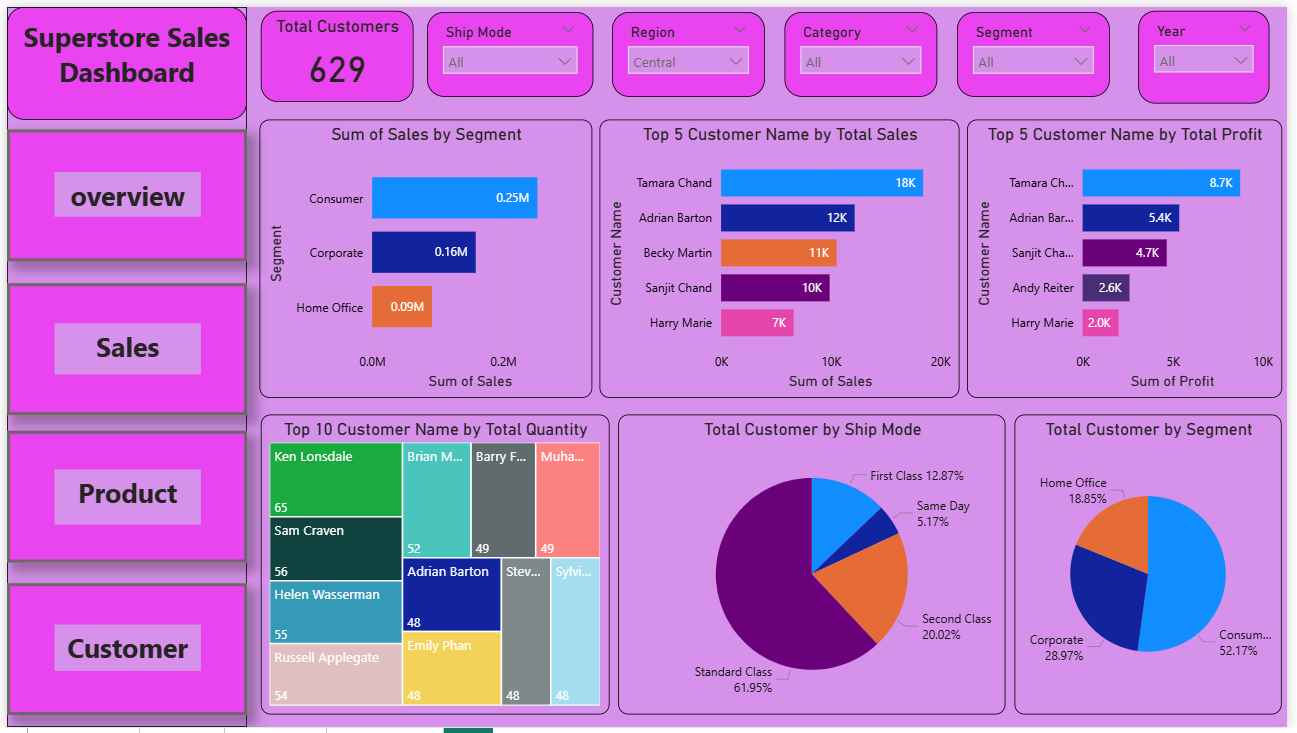

What the dashboard file says about the page in this screenshot:
{"tool":"powerbi","page":{"name":"Customer","canvas":[1280,720],"ordinal":3},"visuals":[{"type":"textbox","box":[0,0,240,720],"z":0},{"type":"card","title":"Total Customers","fields":{"Values":["Orders.Customer ID"]},"box":[253.1,3.8,152.5,91.2],"z":0,"group":"g1"},{"type":"textbox","box":[0,0,240,112.5],"z":1000},{"type":"actionButton","box":[0,576.3,240.1,131.7],"z":2000},{"type":"actionButton","box":[0,424,240.1,131.7],"z":3000},{"type":"slicer","fields":{"Values":["calender.Year"]},"box":[1130.4,4.1,131.2,92.5],"z":4000,"group":"g1"},{"type":"actionButton","box":[0,275.8,240.1,131.7],"z":4000},{"type":"actionButton","box":[0,122.1,240.1,131.7],"z":5000},{"type":"textbox","box":[47.5,165,146.2,45],"z":6000},{"type":"textbox","box":[47.5,316.2,146.2,51.2],"z":7000},{"type":"textbox","box":[47.5,462.5,146.2,55],"z":8000},{"type":"textbox","box":[47.5,617.5,146.2,46.2],"z":9000},{"type":"group","id":"g1","title":"Group 1","box":[253.1,3.8,1008.6,92.8],"z":10000},{"type":"slicer","fields":{"Values":["Orders.Ship Mode"]},"box":[420,5,166.2,85],"z":11000},{"type":"slicer","fields":{"Values":["Orders.Region"]},"box":[605,5,152.5,85],"z":12000},{"type":"slicer","fields":{"Values":["Orders.Category"]},"box":[777.5,5,152.5,85],"z":13000},{"type":"slicer","fields":{"Values":["Orders.Segment"]},"box":[950,5,152.5,85],"z":14000},{"type":"barChart","title":"Sum of Sales by Segment","fields":{"Category":["Orders.Segment"],"Y":["Orders.Sales"],"Series":["Orders.Segment"]},"box":[252.5,112.5,332.5,278.8],"z":15000},{"type":"barChart","title":"Top 5 Customer Name by Total Sales","fields":{"Category":["Orders.Customer Name"],"Y":["Orders.Sales"],"Series":["Orders.Customer Name"]},"box":[592.5,112.5,360,278.8],"z":16000},{"type":"barChart","title":"Top 5 Customer Name by Total Profit","fields":{"Category":["Orders.Customer Name"],"Y":["Orders.Profit"],"Series":["Orders.Customer Name"]},"box":[960,112.5,315,278.8],"z":17000},{"type":"treemap","title":"Top 10 Customer Name by Total Quantity","fields":{"Group":["Orders.Customer Name"],"Values":["Orders.Quantity"]},"box":[253.8,407.5,348.8,300],"z":18000},{"type":"pieChart","title":"Total Customer by Ship Mode","fields":{"Y":["Orders.Customer Name"],"Series":["Orders.Ship Mode"]},"box":[611.2,407.5,387.5,300],"z":19000},{"type":"pieChart","title":"Total Customer by Segment","fields":{"Series":["Orders.Segment"],"Y":["Orders.Customer Name"]},"box":[1007.5,407.5,267.5,300],"z":20000}]}

Visuals, with their boxes in screenshot pixels (x1, y1, x2, y2), scaled from the page's 1280x720 canvas onto the 1297x733 screenshot:
textbox: 0:0:243:732
"Total Customers" card: 256:4:411:97
textbox: 0:0:243:115
actionButton: 0:587:243:721
actionButton: 0:432:243:566
slicer - calender.Year: 1145:4:1278:98
actionButton: 0:281:243:415
actionButton: 0:124:243:258
textbox: 48:168:196:214
textbox: 48:322:196:374
textbox: 48:471:196:527
textbox: 48:629:196:676
"Group 1" group: 256:4:1278:98
slicer - Orders.Ship Mode: 426:5:594:92
slicer - Orders.Region: 613:5:768:92
slicer - Orders.Category: 788:5:942:92
slicer - Orders.Segment: 963:5:1117:92
"Sum of Sales by Segment" barChart: 256:115:593:398
"Top 5 Customer Name by Total Sales" barChart: 600:115:965:398
"Top 5 Customer Name by Total Profit" barChart: 973:115:1292:398
"Top 10 Customer Name by Total Quantity" treemap: 257:415:611:720
"Total Customer by Ship Mode" pieChart: 619:415:1012:720
"Total Customer by Segment" pieChart: 1021:415:1292:720
